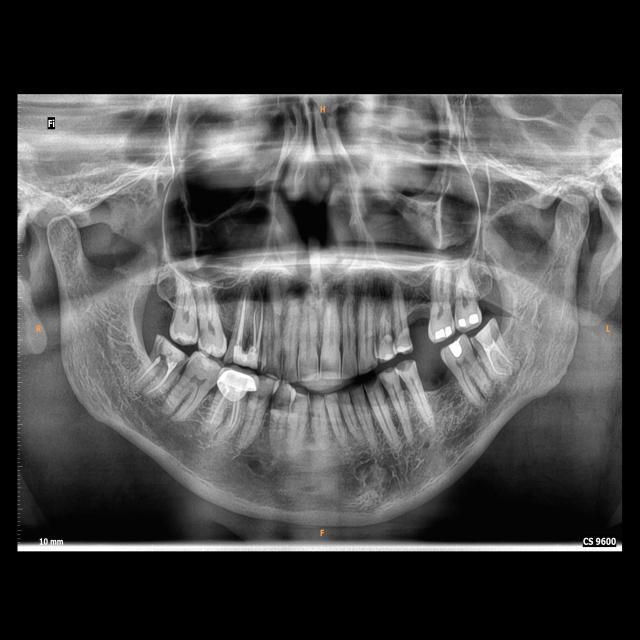dentin-curugu: (272, 389, 288, 413)
dolgu: (445, 339, 467, 360), (476, 326, 494, 351), (456, 312, 482, 329), (435, 324, 454, 341)
kanal-tedavisi: (134, 356, 173, 392), (238, 291, 264, 345), (209, 394, 240, 433), (486, 344, 515, 379)
kaplama: (217, 370, 259, 400)
kok-enfeksiyonu: (249, 274, 276, 312), (368, 280, 399, 306), (285, 279, 313, 305)
